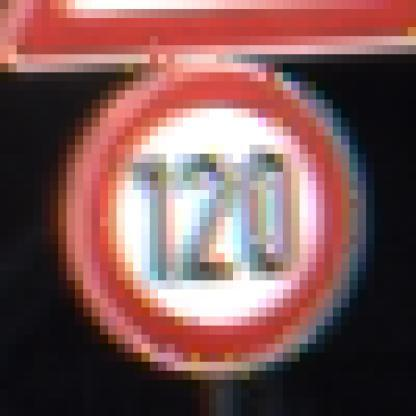Speed Limit -120-: (84, 78, 369, 358)
